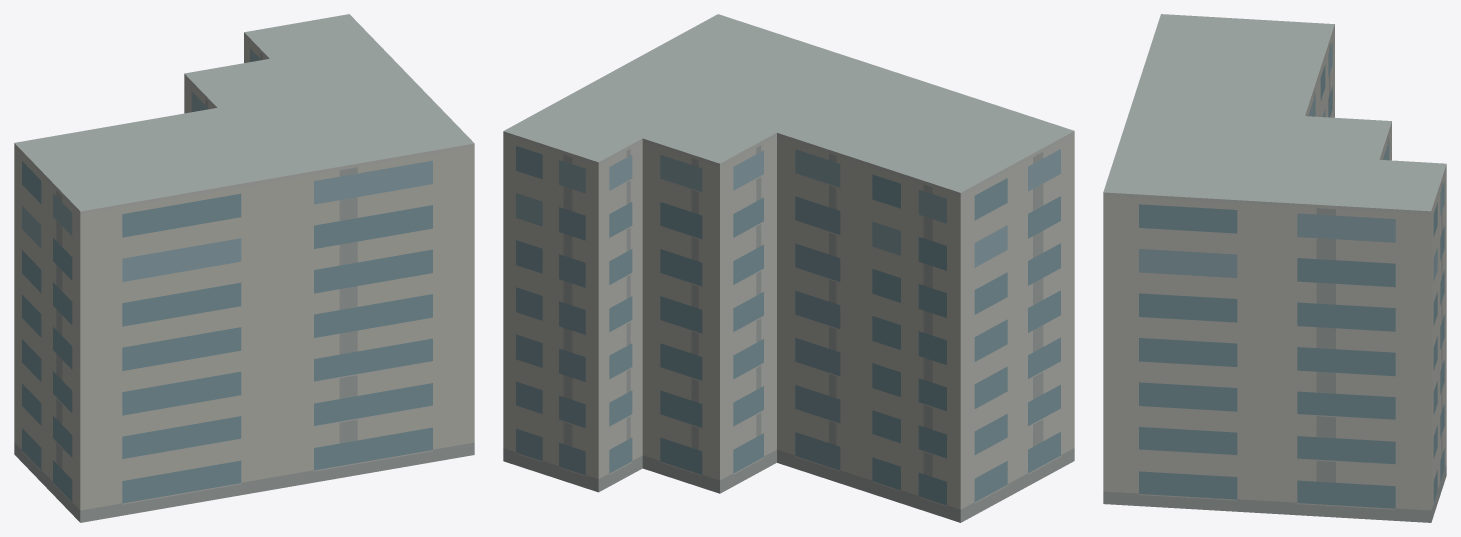
File: residential-7ee30746-bf76-47e5-82a7-2c97c749df40.glb
3 views of the same model, side by side, from view 1: azimuth 30°, elevation 25°; view 2: azimuth 150°, elevation 25°; view 3: azimuth 270°, elevation 25° (orthographic). The views are drawn at different scales.
Visible parts, largest first — view 1: residential-7ee30746-bf76-47e5-82a7-2c97c749df40.tmp; view 2: residential-7ee30746-bf76-47e5-82a7-2c97c749df40.tmp; view 3: residential-7ee30746-bf76-47e5-82a7-2c97c749df40.tmp.
Boxes of the visible parts, x1=… form: residential-7ee30746-bf76-47e5-82a7-2c97c749df40.tmp: x1=14, y1=14, x2=474, y2=522; residential-7ee30746-bf76-47e5-82a7-2c97c749df40.tmp: x1=503, y1=14, x2=1074, y2=522; residential-7ee30746-bf76-47e5-82a7-2c97c749df40.tmp: x1=1103, y1=14, x2=1446, y2=522.
Bounding box in the file's own units: 29.01 × 21.35 × 21.34.
